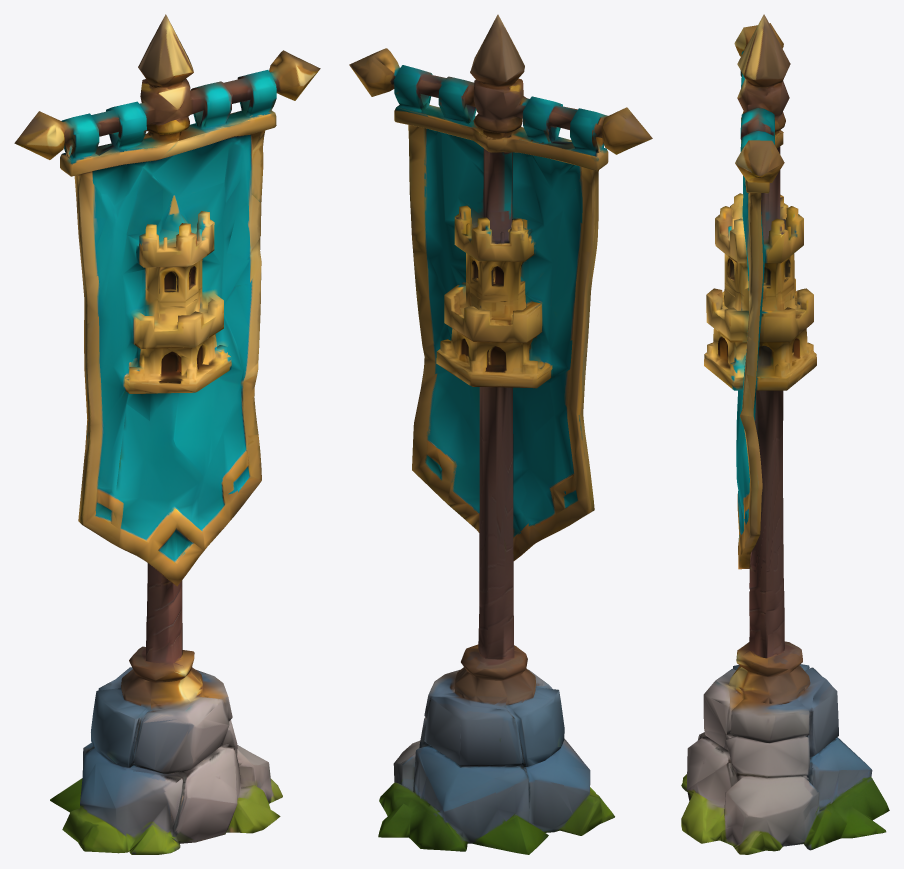
Rendered from banner.glb.
3 renders of one model, left to right at view 1: azimuth 30°, elevation 25°; view 2: azimuth 150°, elevation 25°; view 3: azimuth 270°, elevation 25°, orthographic.
Parts seen in each view (by area): view 1: node_0; view 2: node_0; view 3: node_0.
Boxes of the visible parts, box(x1,y1,x2,y2) form: node_0: box(14, 14, 320, 854); node_0: box(349, 14, 652, 854); node_0: box(681, 14, 889, 854).
Size of the model in its own units: 2.41 by 6.01 by 1.44.
1 material, 1 textured.
